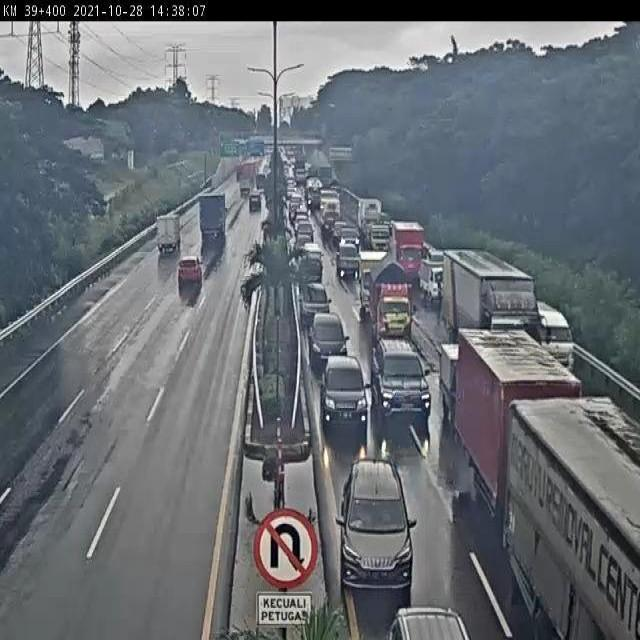big truck: (504, 385, 640, 640), (459, 321, 594, 544), (443, 251, 540, 372), (192, 181, 233, 244), (357, 200, 400, 251), (394, 220, 428, 277), (150, 204, 182, 261)
car: (332, 451, 435, 604), (374, 332, 429, 445), (320, 351, 379, 445), (310, 312, 350, 381), (167, 248, 210, 305), (300, 279, 334, 325), (339, 245, 360, 284), (298, 258, 326, 286), (247, 190, 266, 213), (305, 242, 323, 266), (341, 230, 362, 250), (294, 233, 313, 255), (296, 223, 315, 240)
small bus: (534, 295, 586, 376)
small truck: (372, 255, 417, 348), (443, 339, 477, 420), (361, 252, 395, 319), (422, 258, 456, 306)
